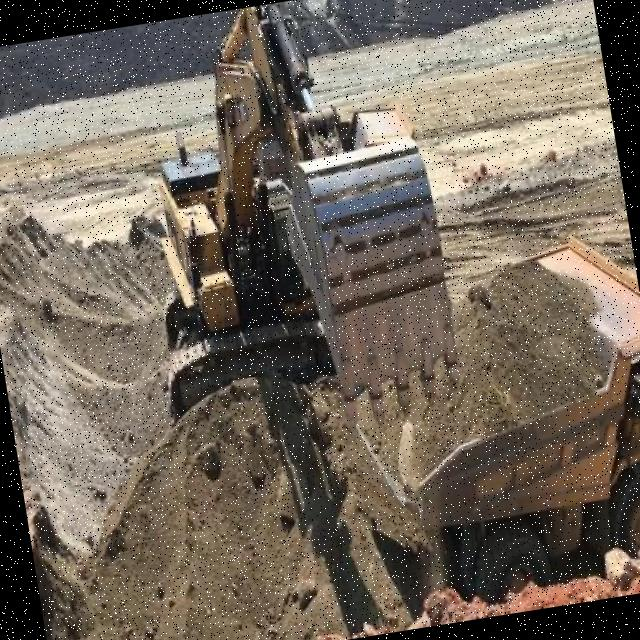Dump Truck: (327, 215, 640, 597)
Excavator: (110, 0, 474, 481)
